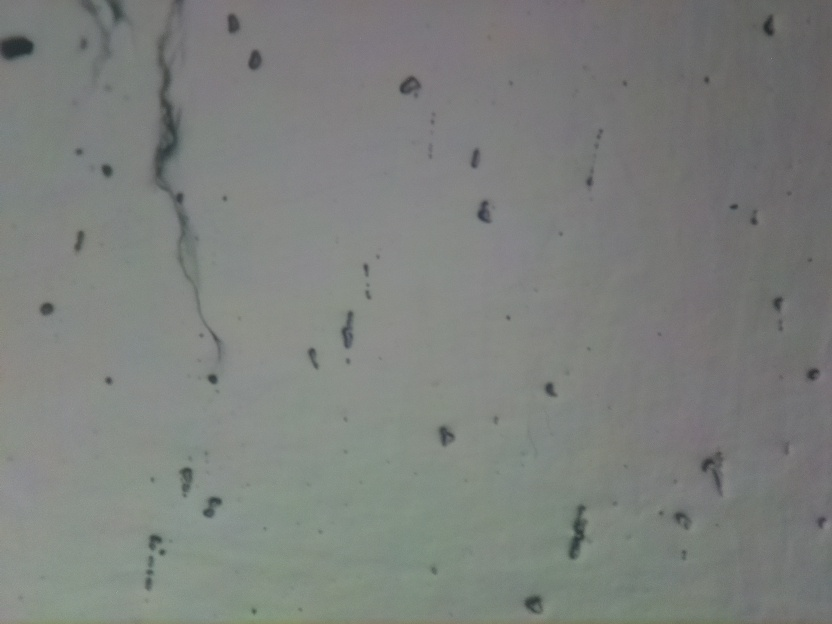crack: (155, 9, 227, 361)
